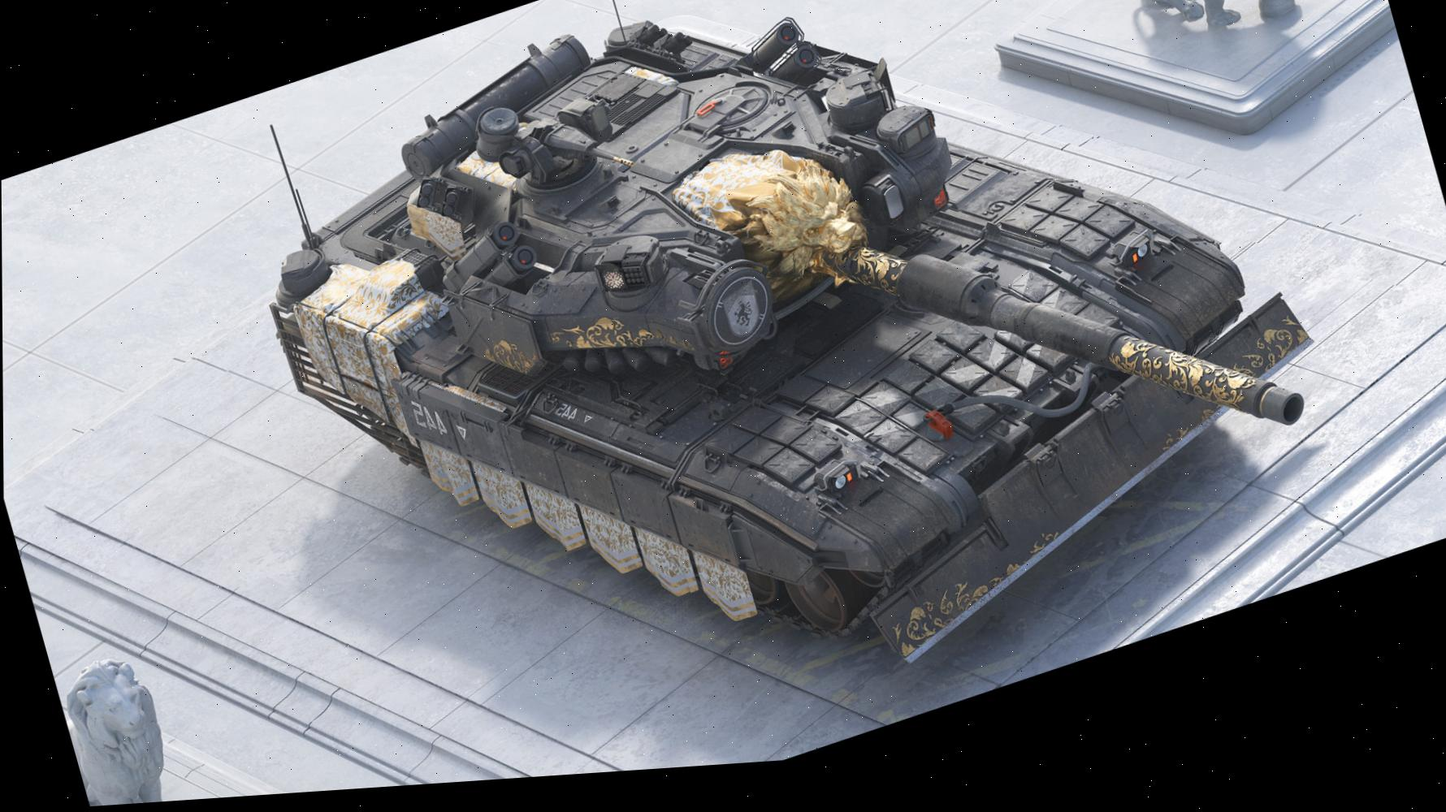tank: (226, 0, 1360, 797)
